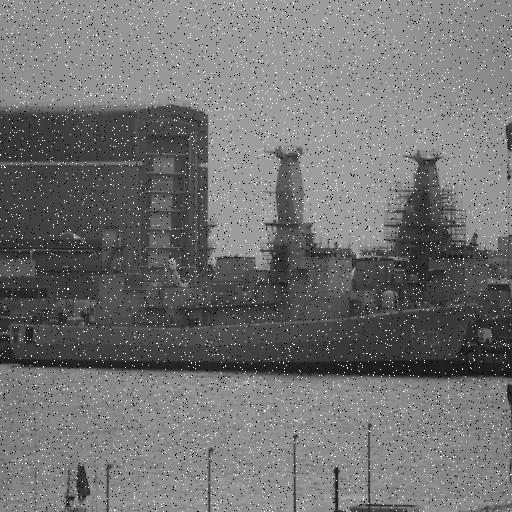Fragata: (11, 143, 481, 382)
